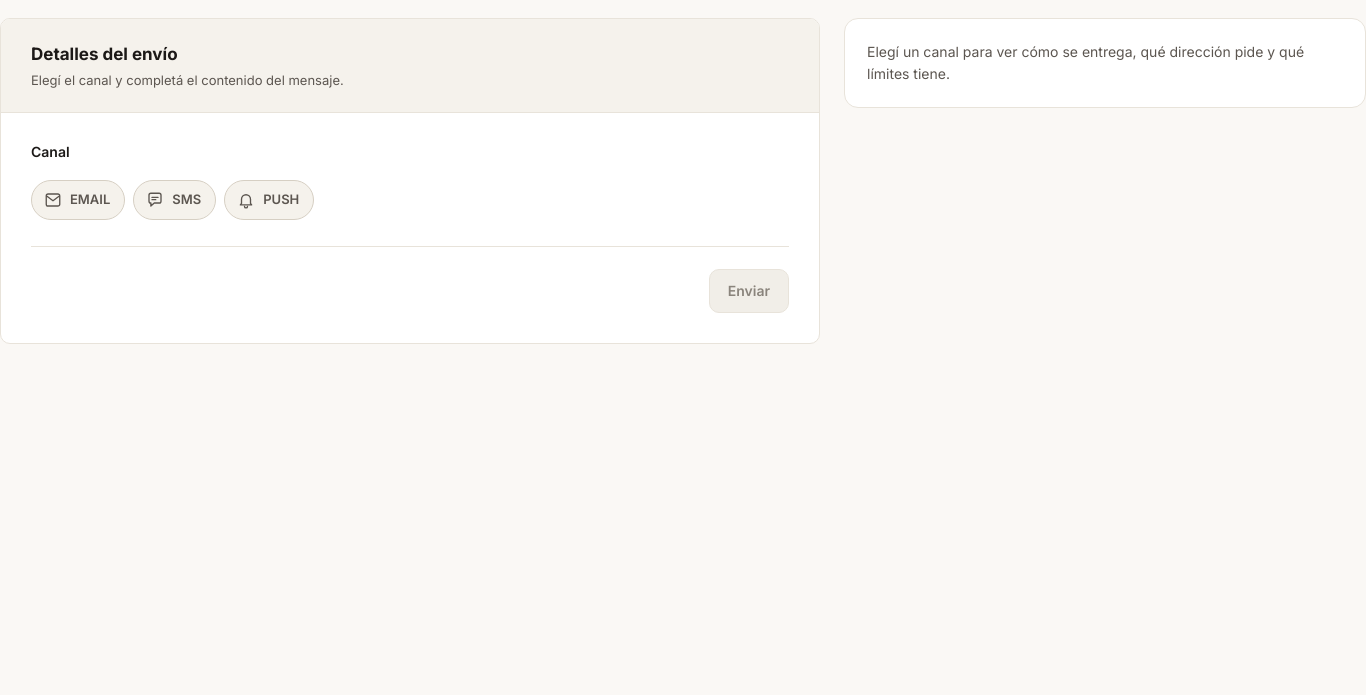
Test: NuevaNotificacion (validaciones) › al enviar con todo vacío señala los campos, enfoca el primero y no hace ninguna solicitud
This screenshot has width=1366, height=695.
What coordinates should you click on to do the following:
click the radio button labelled "EMAIL"
I would click on:
 (78, 200)
Its box is [31,180,125,220].
(page scrolled)
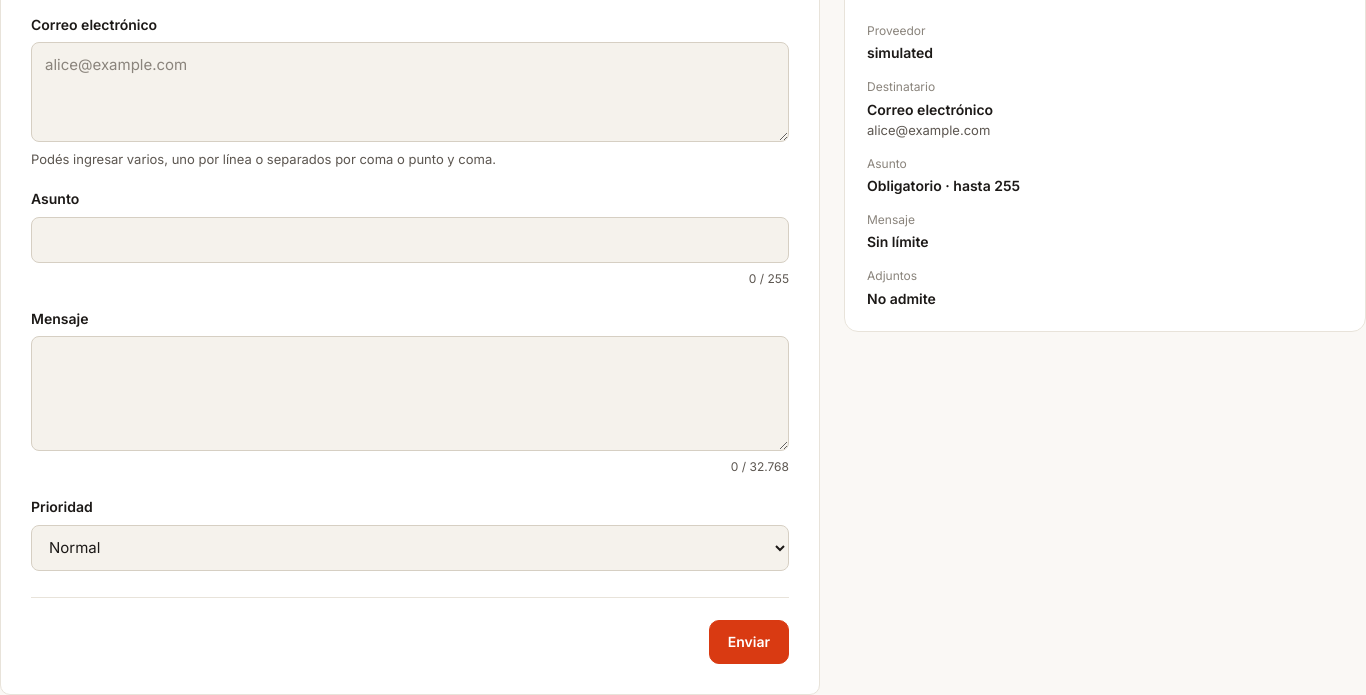
What coordinates should you click on to do the following:
click the button "Enviar"
I would click on:
 (749, 642)
Its box is [709,620,789,664].
(page scrolled)
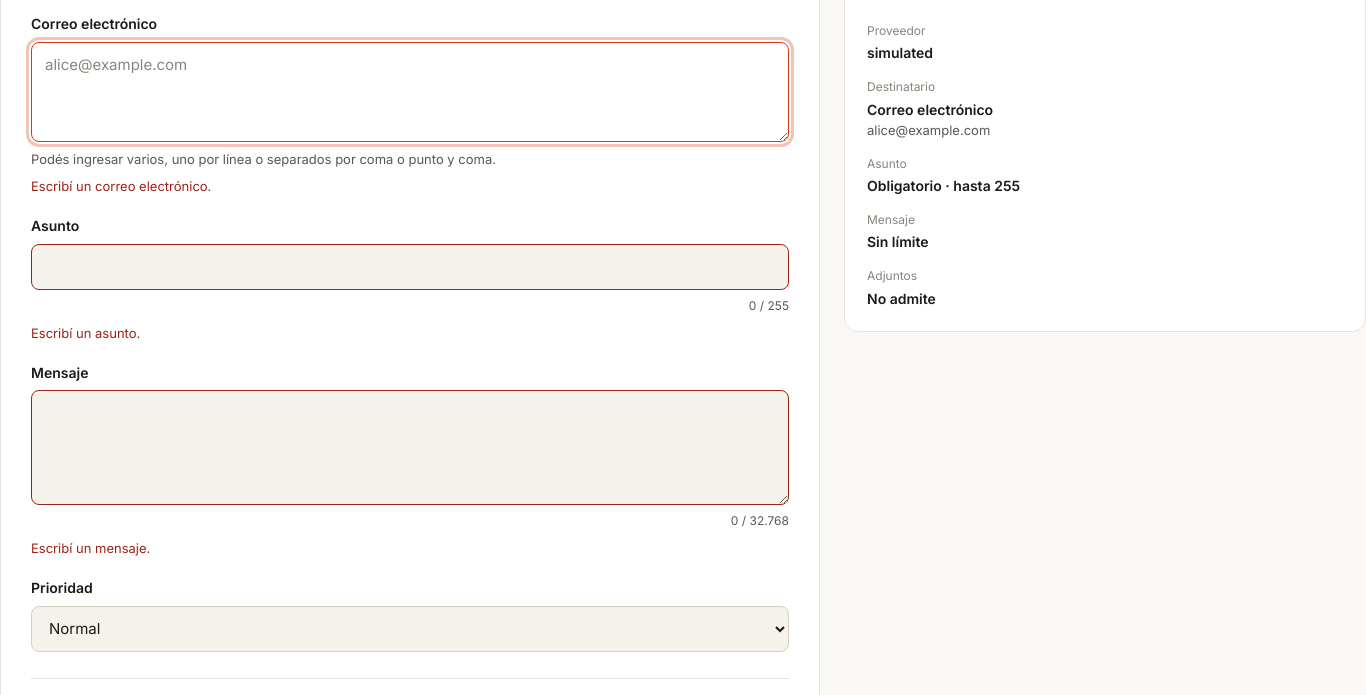
Expected: the text "Escribí un correo electrónico." is shown, [31,178,211,194]
Expected: the text "Escribí un asunto." is shown, [31,324,140,340]
Expected: the text "Escribí un mensaje." is shown, [31,540,150,556]
